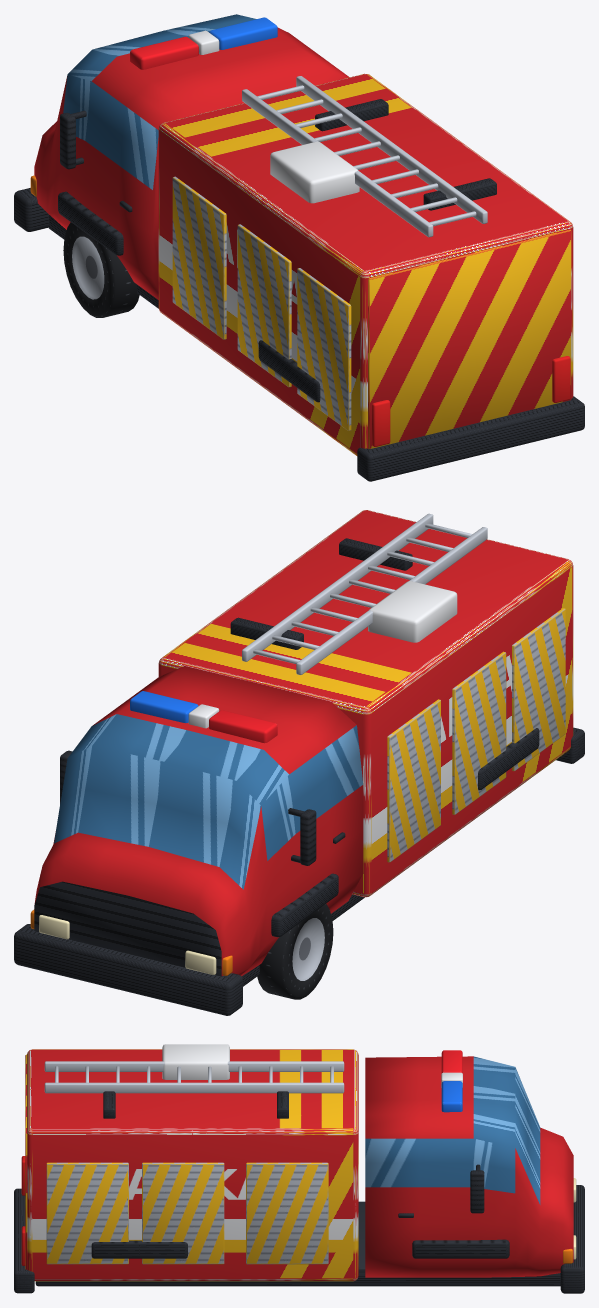
File: mobil_damkar.fbx
The picture shows the model from 3 angles, top to bottom: view 1: azimuth 30°, elevation 25°; view 2: azimuth 150°, elevation 25°; view 3: azimuth 270°, elevation 25°; orthographic projection. The views are drawn at different scales.
Parts seen in each view (by area): view 1: ShellBody, WheelPiece; view 2: ShellBody, WheelPiece; view 3: ShellBody.
Boxes of the visible parts, x1,y1,x2,y2 form: ShellBody: (14,14,584,481); WheelPiece: (63,222,139,317); ShellBody: (14,510,584,1015); WheelPiece: (257,904,333,999); ShellBody: (14,1044,584,1293).
Bounding box in the file's own units: 8.09 × 8.05 × 20.
Materials: 1 (1 with a texture image).
